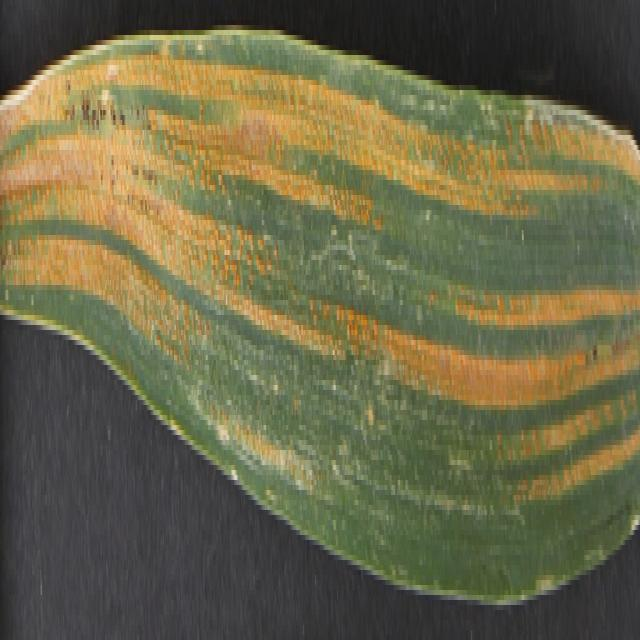leaf rust: (1, 25, 640, 495)
